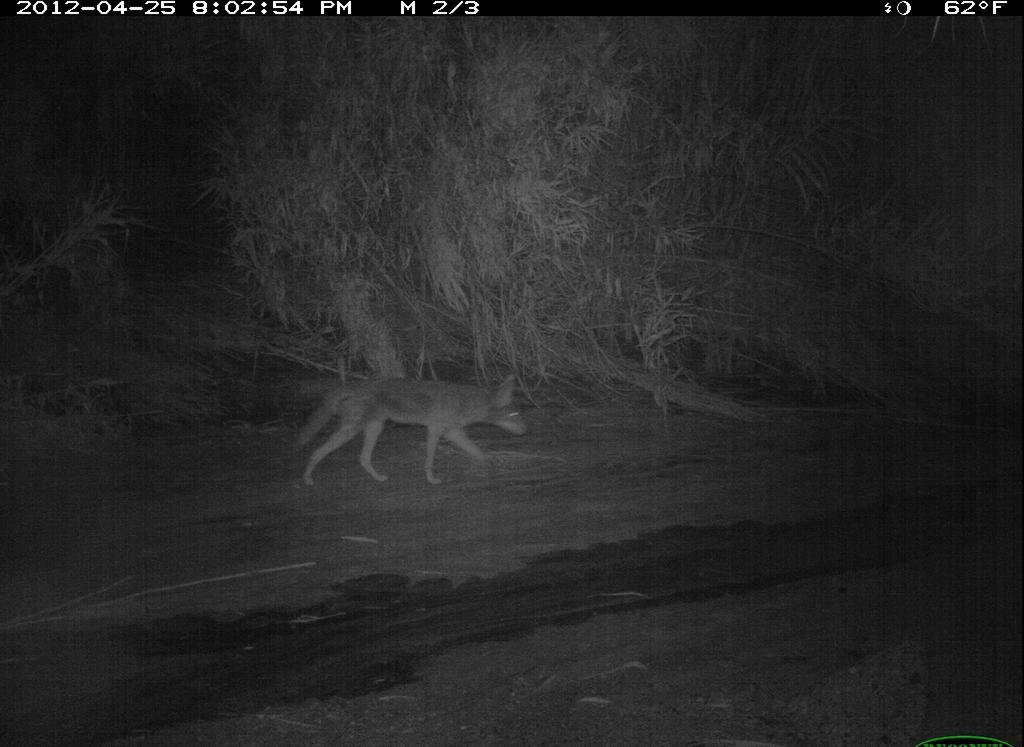coyote: (291, 365, 537, 496)
